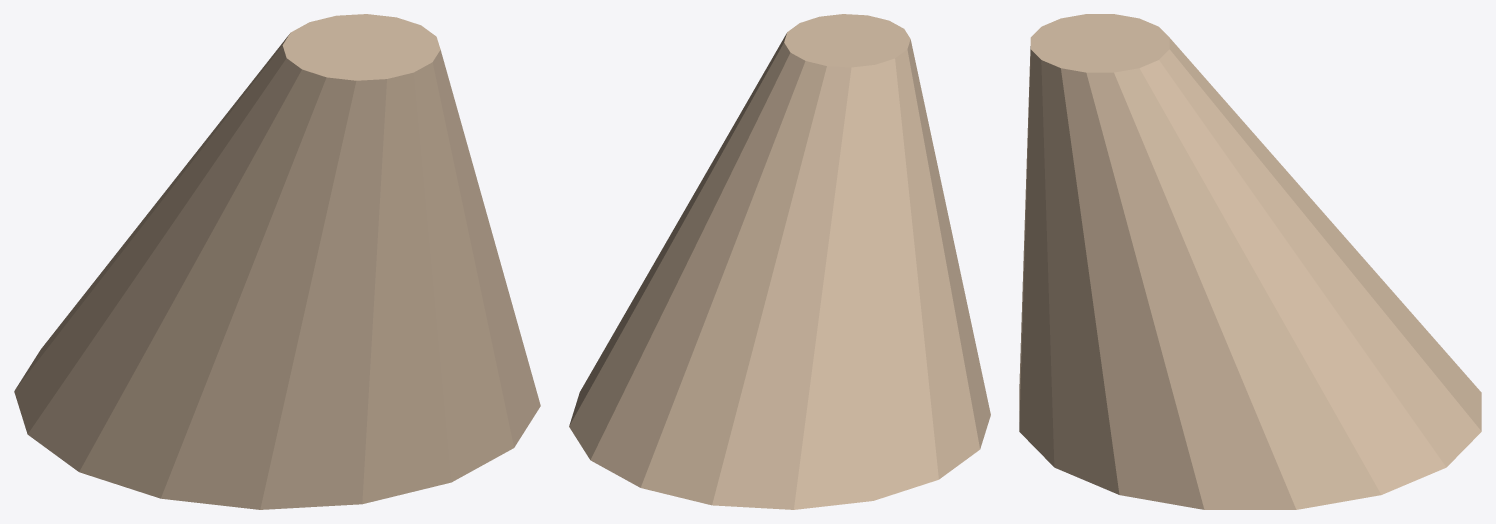
The model's file is nose angle collider.obj.
3 views of the same model, side by side, from view 1: azimuth 30°, elevation 25°; view 2: azimuth 150°, elevation 25°; view 3: azimuth 270°, elevation 25° (orthographic). The views are drawn at different scales.
Visible parts, largest first — view 1: c; view 2: c; view 3: c.
Part boxes in pixels (x1,y1,x2,y2): c: (14,14,540,509); c: (569,14,990,509); c: (1019,14,1481,509).
Bounding box in the file's own units: 1.25 × 1.1 × 1.25.
